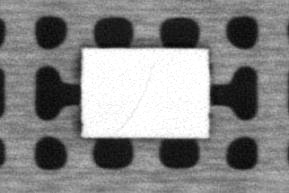DIE_CRACK: (120, 63, 155, 128)
